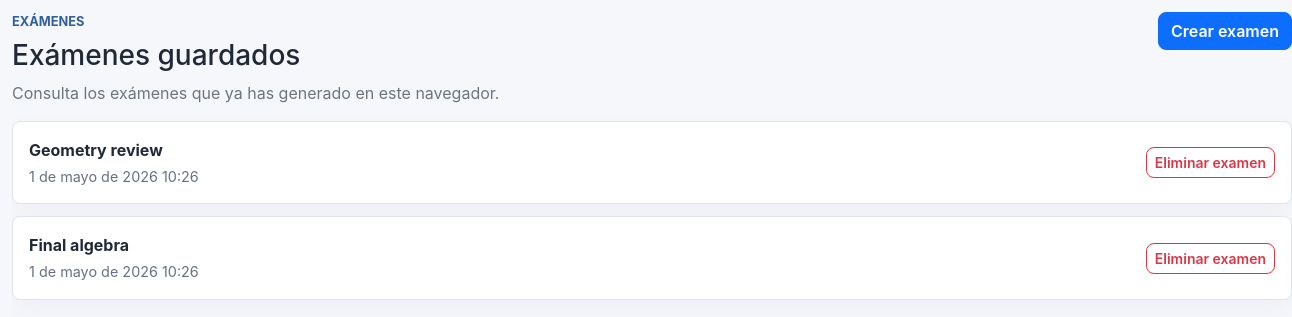
Test: ExamsListComponent › should delete only the selected exam when confirmation is accepted
Click the 1st button with class "btn-outline-danger" at (1210, 163), box [1146,147,1275,178]
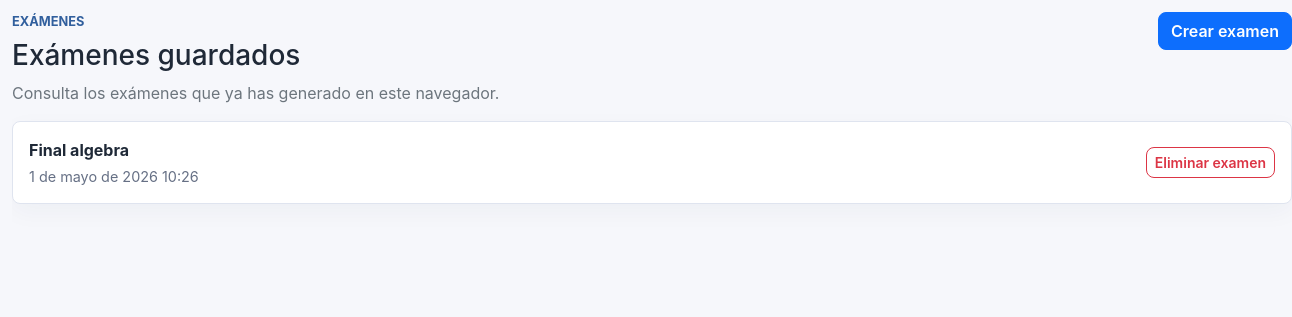
Expected: the text "Final algebra" is shown, [29,140,129,160]
Expected: the text "Geometry review" is gone
